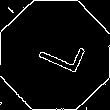L_NW: (26, 31, 84, 79)
